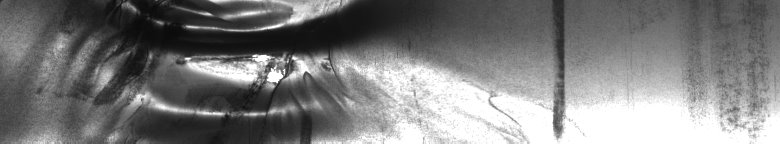ke: (37, 4, 364, 136)
